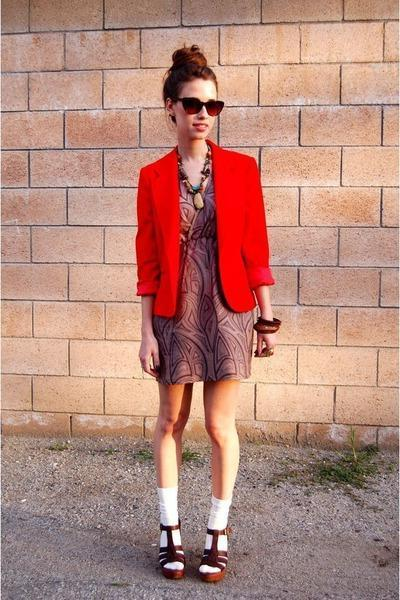dress: (143, 167, 258, 383)
jacket: (133, 144, 275, 315)
